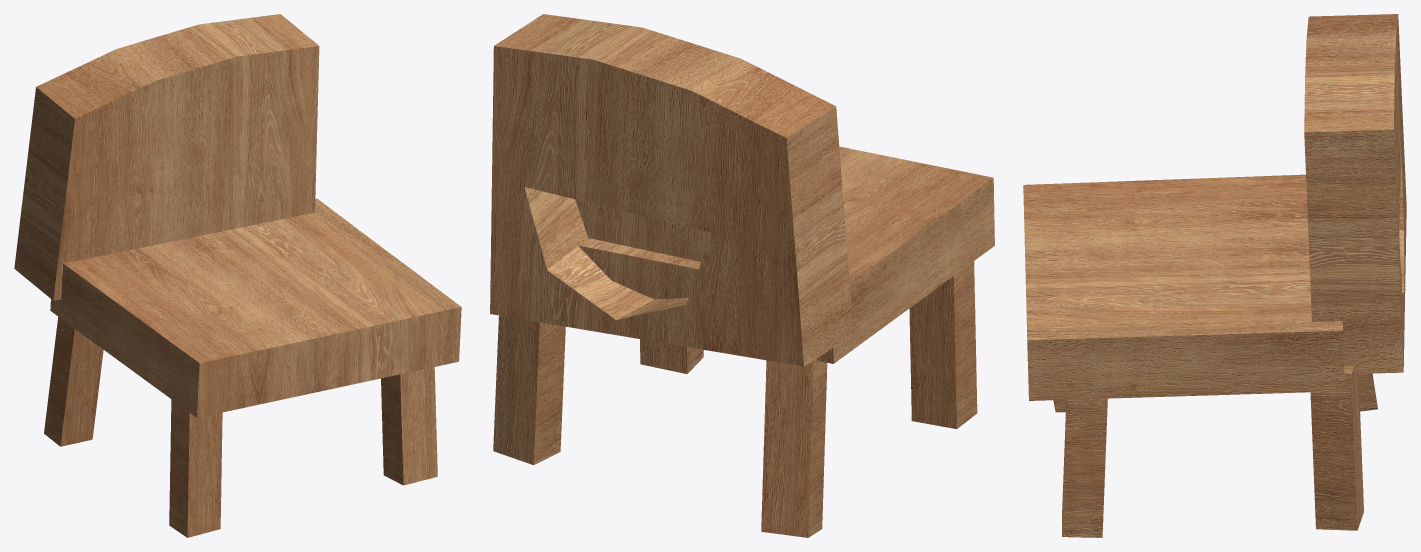
Rendered from 3319_ours.glb.
3 views of the same model, side by side, from view 1: azimuth 30°, elevation 25°; view 2: azimuth 150°, elevation 25°; view 3: azimuth 270°, elevation 25° (orthographic). The views are drawn at different scales.
Parts seen in each view (by area): view 1: ParentEmpty; view 2: ParentEmpty; view 3: ParentEmpty.
Part boxes in pixels (x1,y1,x2,y2): ParentEmpty: [14, 14, 461, 537]; ParentEmpty: [490, 14, 994, 537]; ParentEmpty: [1023, 14, 1406, 537].
Bounding box in the file's own units: 0.7953 × 1 × 0.8404.
1 material, 1 textured.
